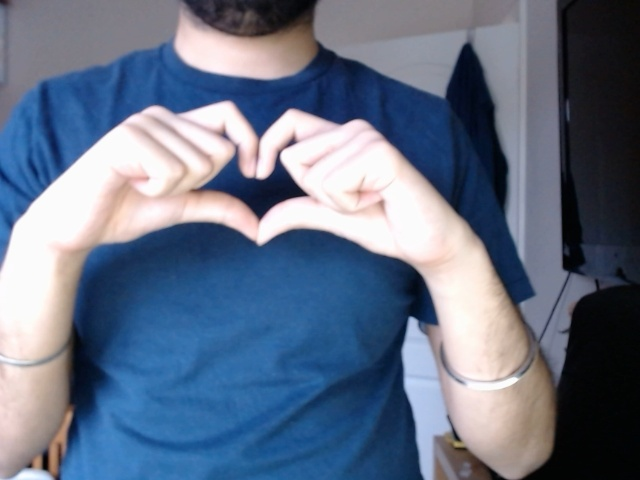Heart: (75, 101, 403, 261)
